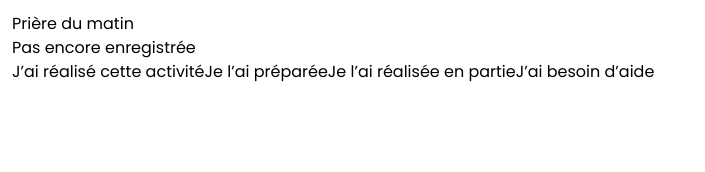
Test: une réponse serveur vide ne devient pas synchronisée
Click the button "J’ai réalisé cette activité" at (108, 72), box x1=12 y1=60 x2=204 y2=84
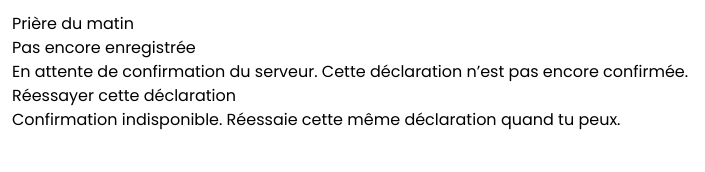
Expected: the message "Confirmation indisponible. Réessaie cette même déclaration quand tu peux." is shown, x1=12 y1=108 x2=620 y2=131
